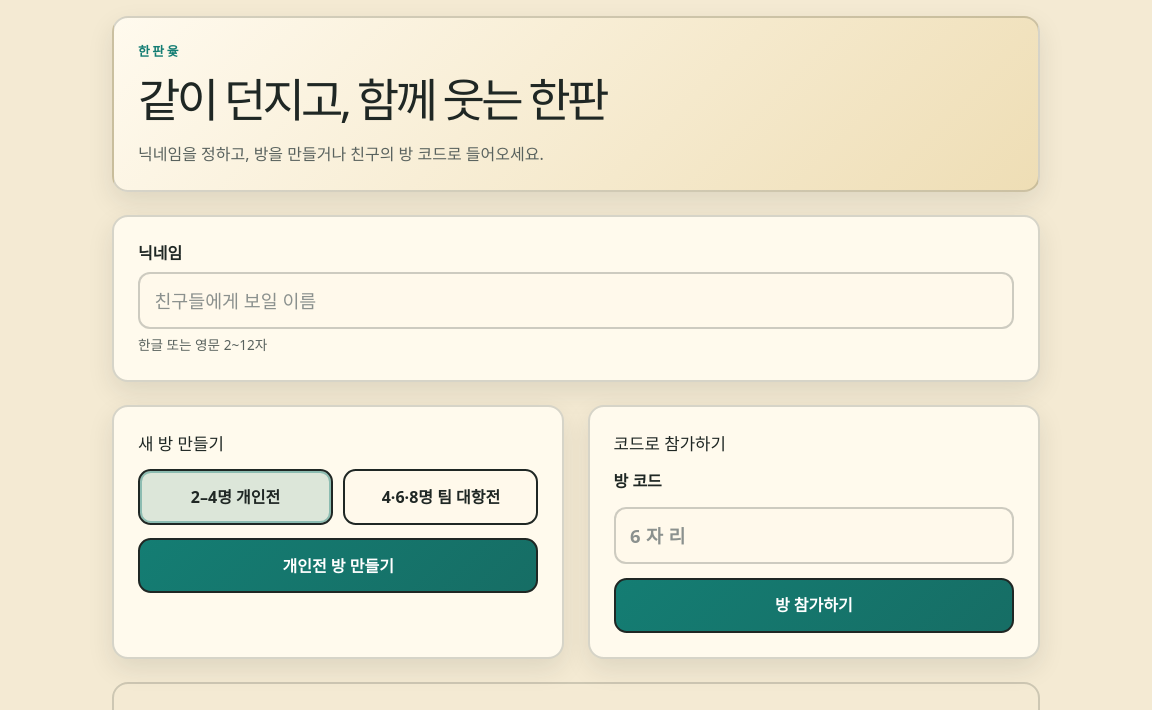
Lobby › joins with the one shared nickname and moves focus to it when it is missing
Type "AB2CDE" into the field labelled "방 코드". click: (814, 536)
box: [614,507,1014,564]
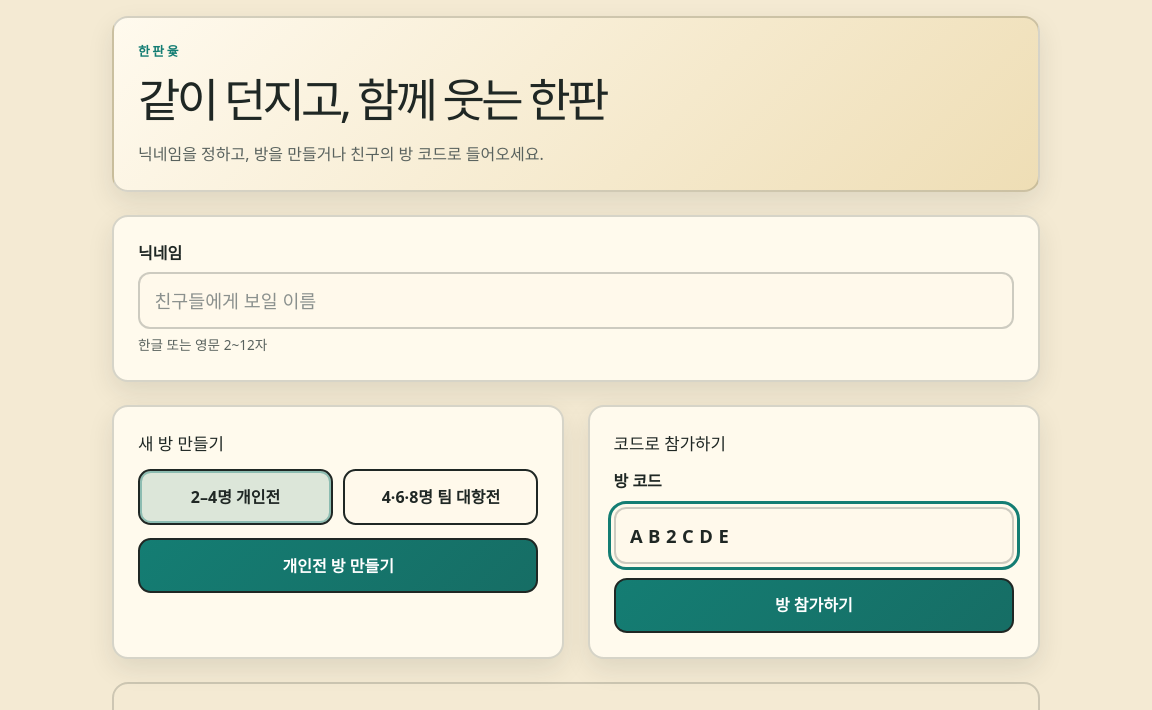
Click the button "방 참가하기". click: (814, 605)
box: [614,578,1014,633]
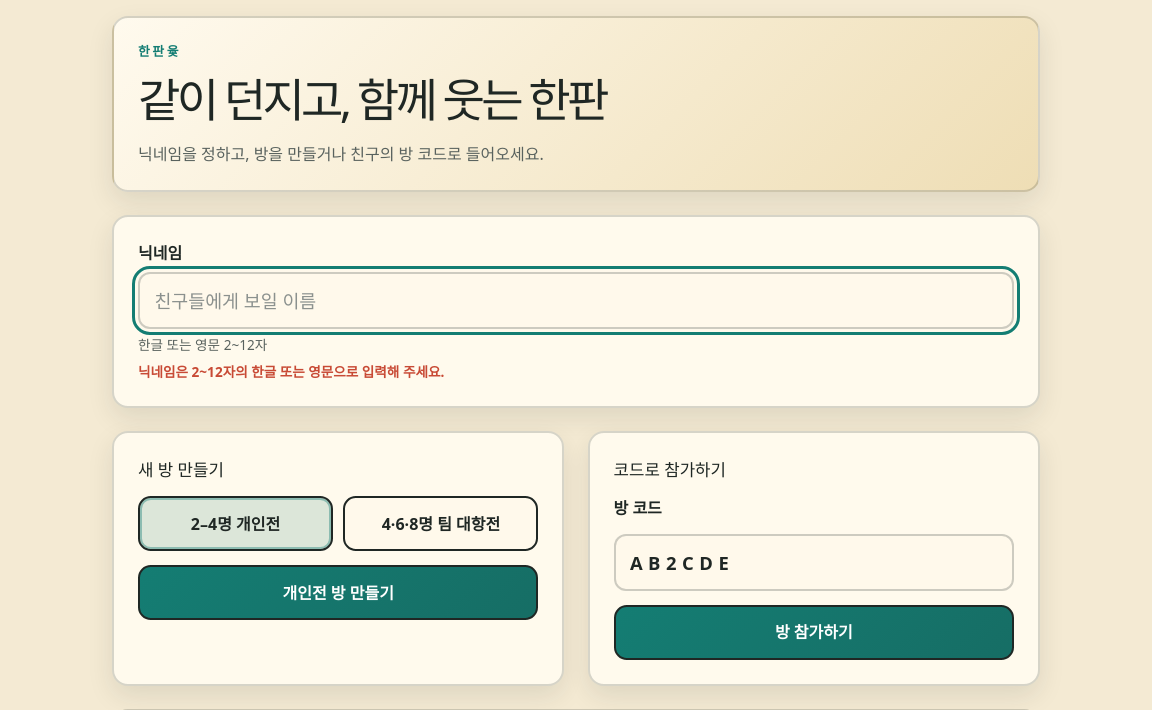
Check: the message shows "닉네임은 2~12자", box [138,362,444,381]
